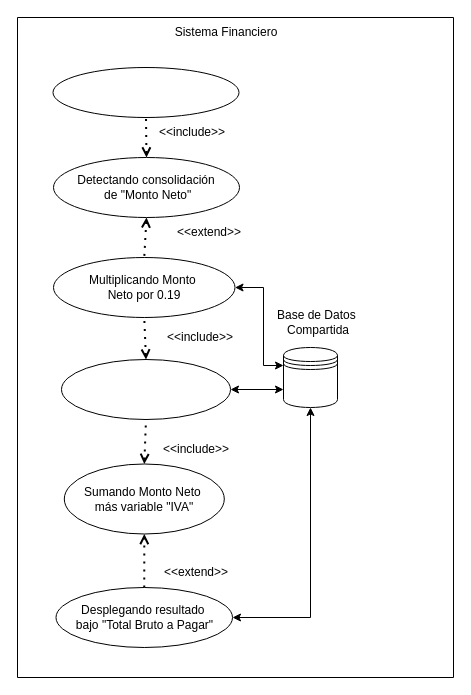
The diagram is 471 pixels wide and 695 high, and some of its shapes have lost their labels. The box of each missing label's shape, as (x1, y1, x2, y2) in pixels:
Asociando resultado a variable "IVA": (60, 358, 230, 420)
Calculando el Impuesto al Valor Agregado: (52, 66, 239, 118)
